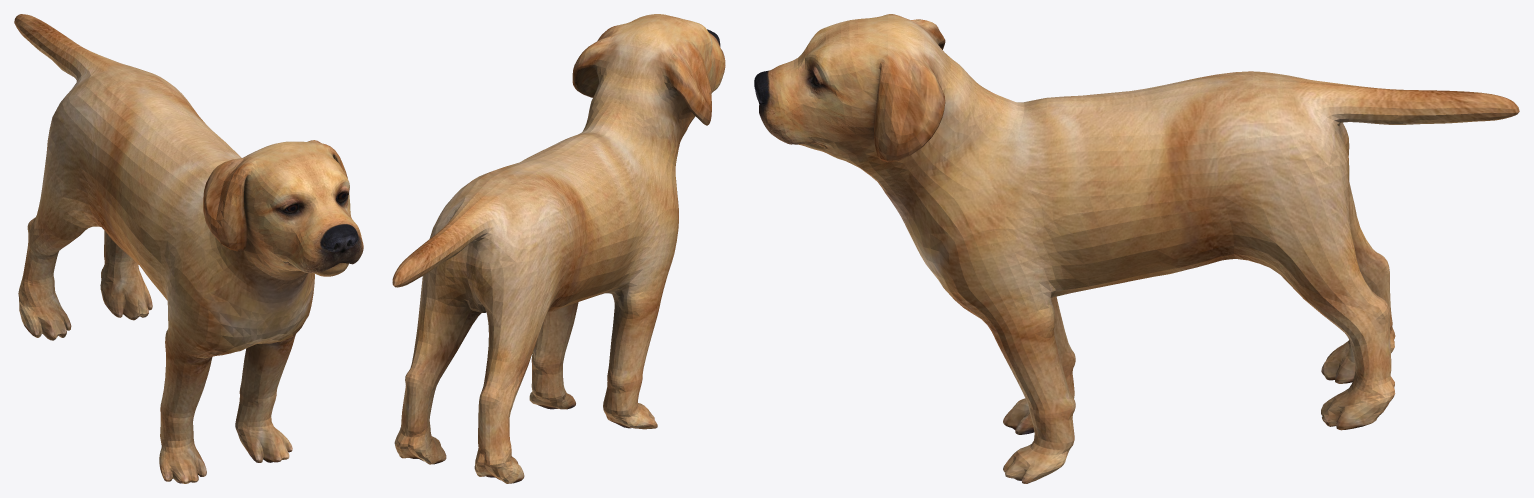
Rendered from dog.glb.
3 renders of one model, left to right at view 1: azimuth 30°, elevation 25°; view 2: azimuth 150°, elevation 25°; view 3: azimuth 270°, elevation 25°, orthographic. The views are drawn at different scales.
Bounding box in the file's own units: 0.03 × 0.0759 × 0.1236.
1 material, 1 textured.
